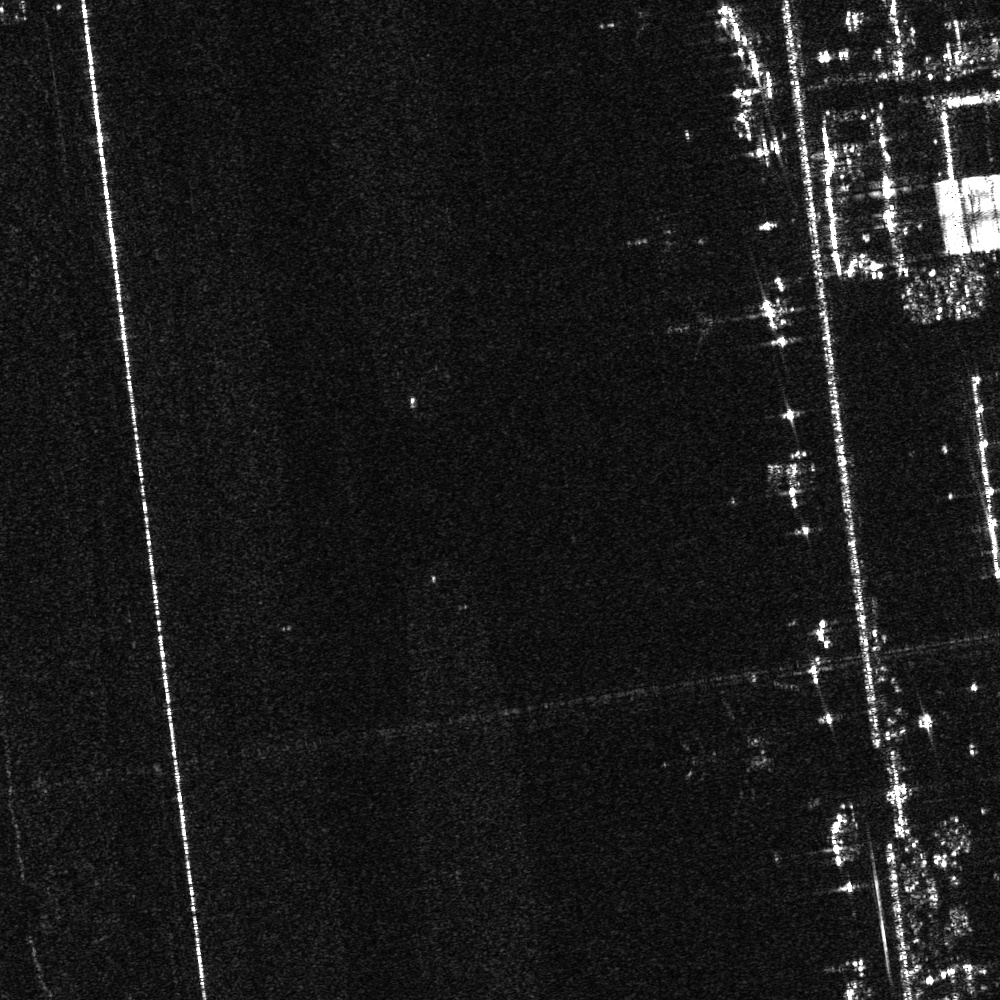A220: (663, 289, 729, 362)
Boeing787: (662, 702, 791, 811)
